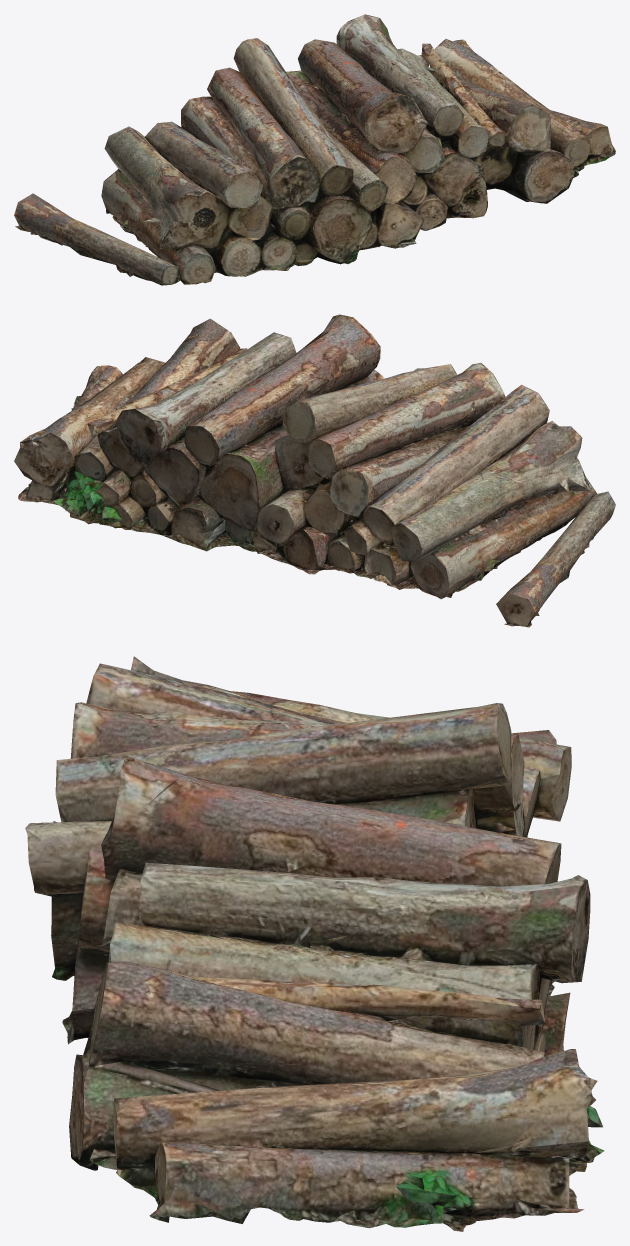
File: log-pile-cut.glb
The picture shows the model from 3 angles, top to bottom: view 1: azimuth 30°, elevation 25°; view 2: azimuth 150°, elevation 25°; view 3: azimuth 270°, elevation 25°; orthographic projection. The views are drawn at different scales.
Parts seen in each view (by area): view 1: Log Pile; view 2: Log Pile; view 3: Log Pile.
Boxes of the visible parts, x1,y1,x2,y2 form: Log Pile: (14,14,615,285); Log Pile: (14,314,615,627); Log Pile: (25,656,604,1231).
Bounding box in the file's own units: 2.63 × 0.7219 × 1.3.
Materials: 1 (1 with a texture image).
